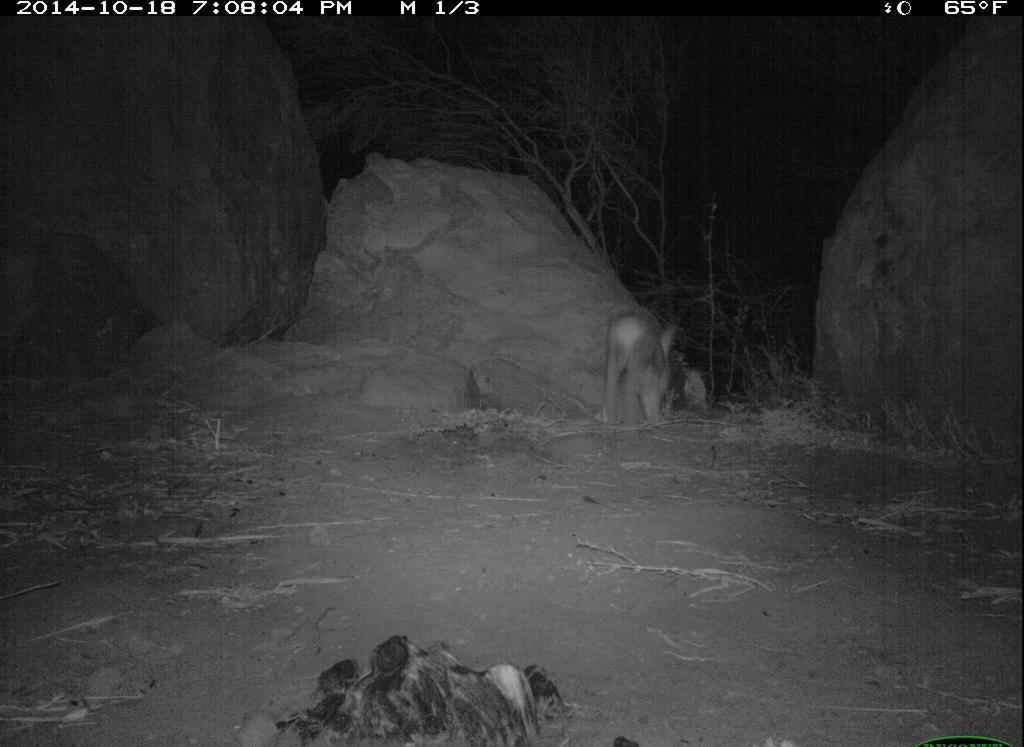rabbit: (600, 296, 703, 442)
